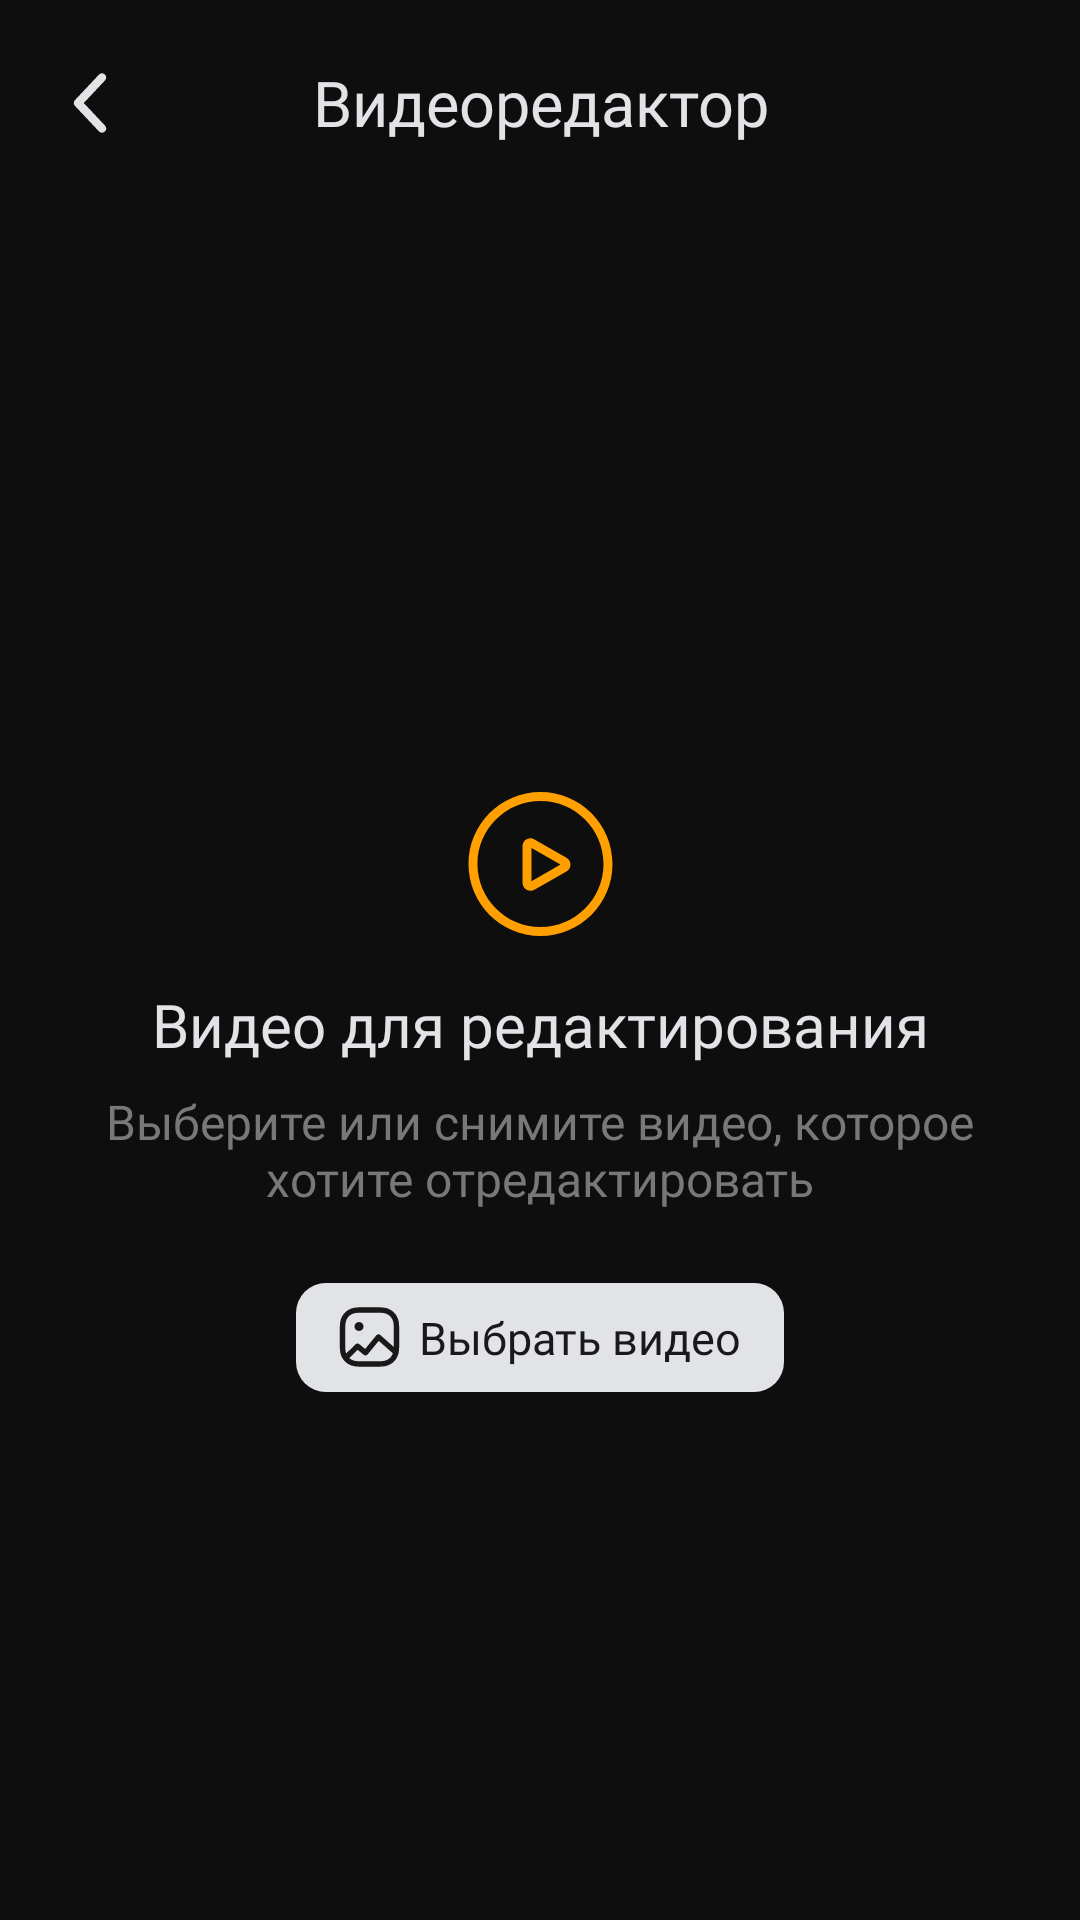

Named icons in this screenshot (1080 x 1920) and their centers, (x,y):
back: (90,103)
play: (540,864)
